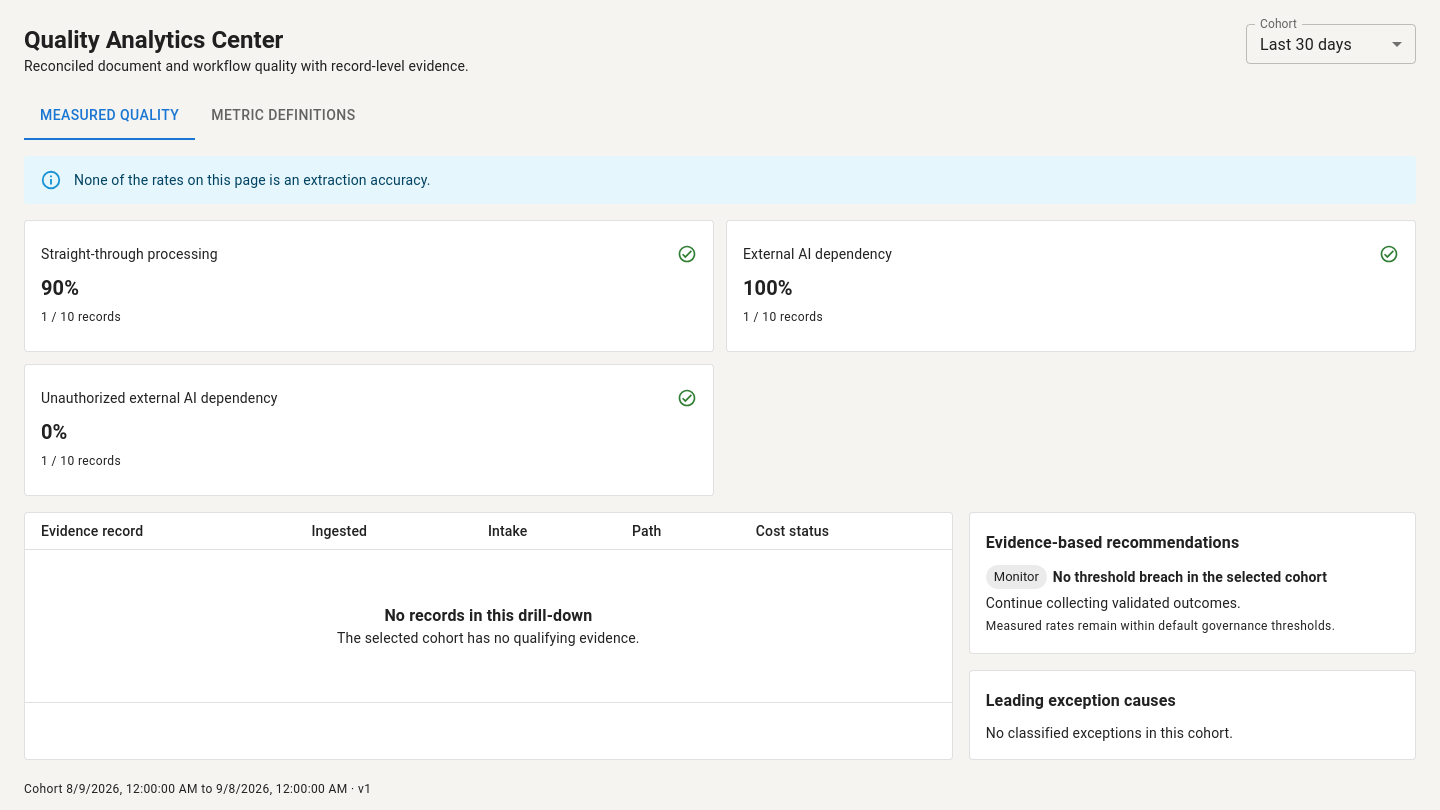
Test case: Quality Analytics metric selection › lights exactly one of the two cards that share the external-ai cohort
The image size is (1440, 810).
Click the button "External AI dependency 100% 1 / 10 records" at (817, 254), box [726,220,1416,352]
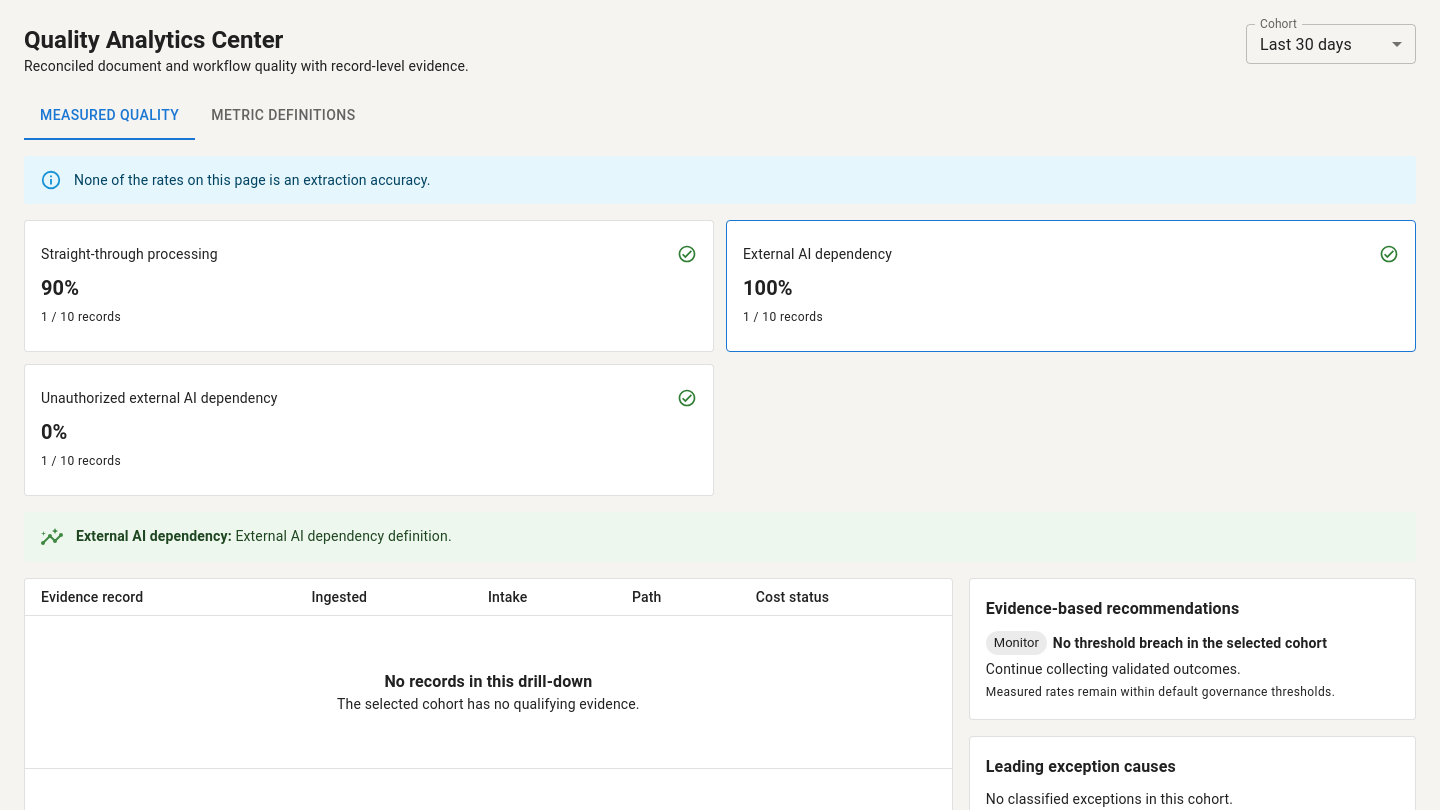
Result: the text "External AI dependency definition." is shown at [235,528,452,544]
Click the button "Unauthorized external AI dependency 0% 1 / 10 records" at (159, 398), box [24,364,714,496]
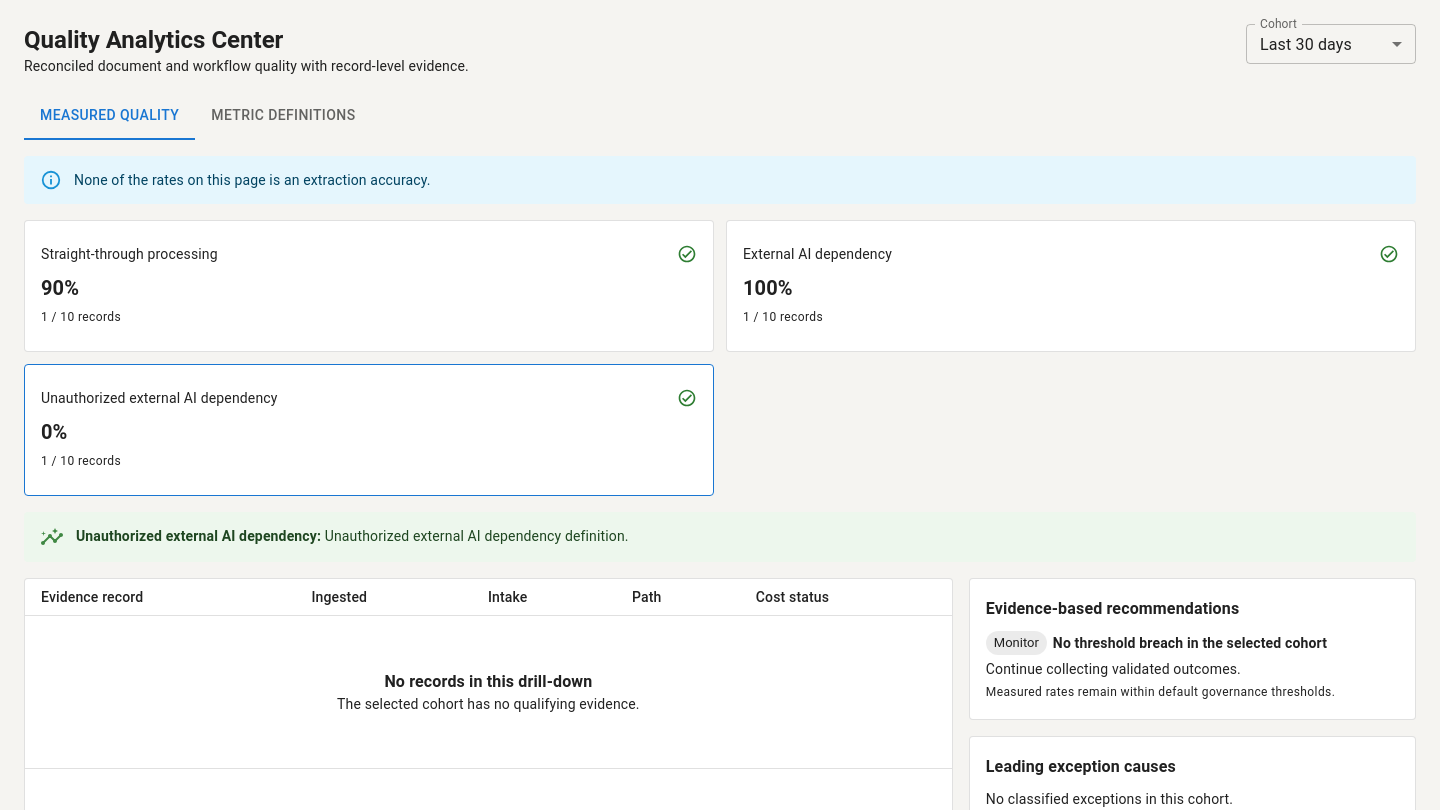
Result: the text "Unauthorized external AI dependency definition." is shown at [325,528,629,544]
